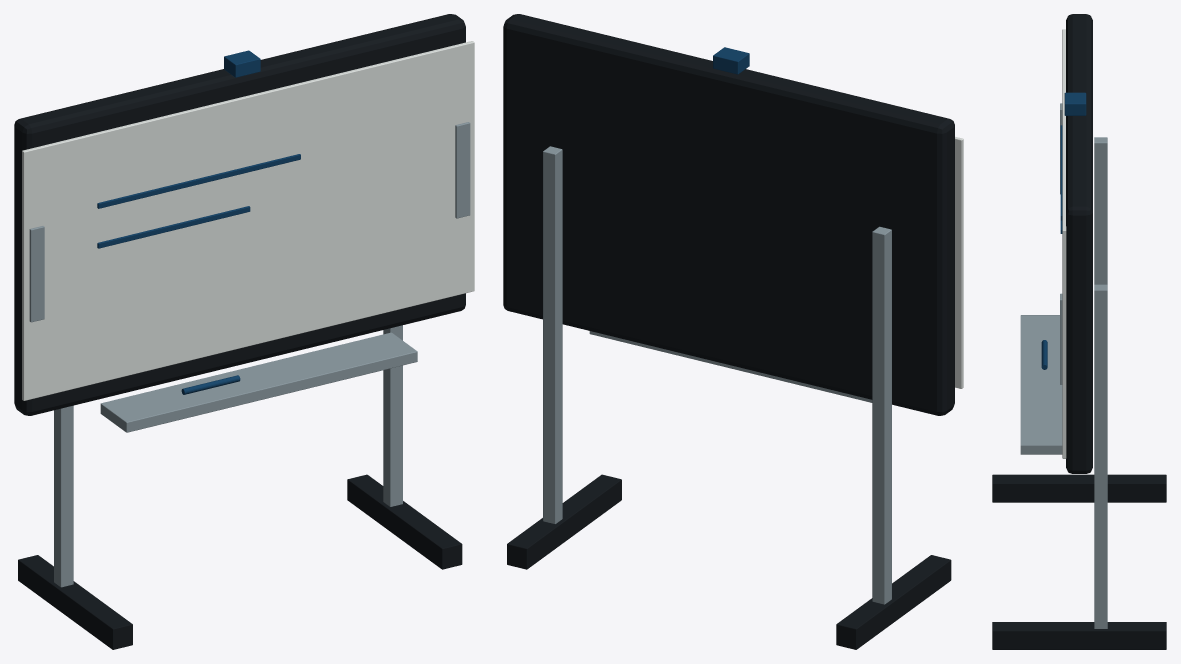
File: edited.glb
3 renders of one model, left to right at view 1: azimuth 30°, elevation 25°; view 2: azimuth 150°, elevation 25°; view 3: azimuth 270°, elevation 25°, orthographic. The views are drawn at different scales.
Visible parts, largest first — view 1: BOARD_Surface, BOARD_Frame, PEN_Tray, FRAME_Foot.001, FRAME_Foot, FRAME_Upright, FRAME_Upright.001, SPEAKER, SPEAKER.001, LESSON_Line1, LESSON_Line2, CAMERA; view 2: BOARD_Frame, FRAME_Upright, FRAME_Upright.001, FRAME_Foot, FRAME_Foot.001, BOARD_Surface, PEN_Tray, CAMERA; view 3: BOARD_Frame, PEN_Tray, FRAME_Upright.001, FRAME_Foot.001, FRAME_Foot, FRAME_Upright, BOARD_Surface, CAMERA, LESSON_Line1, SPEAKER.001.
Part boxes in pixels (<box>): BOARD_Surface: <box>22,41,474,400</box>; BOARD_Frame: <box>14,14,465,415</box>; PEN_Tray: <box>100,332,417,432</box>; FRAME_Foot.001: <box>347,474,462,569</box>; FRAME_Foot: <box>18,555,132,649</box>; FRAME_Upright: <box>54,405,73,587</box>; FRAME_Upright.001: <box>383,325,402,506</box>; SPEAKER: <box>29,226,44,322</box>; SPEAKER.001: <box>455,122,470,218</box>; LESSON_Line1: <box>97,154,300,208</box>; LESSON_Line2: <box>97,206,250,248</box>; CAMERA: <box>224,50,260,77</box>; BOARD_Frame: <box>503,14,954,415</box>; FRAME_Upright: <box>872,226,891,604</box>; FRAME_Upright.001: <box>543,146,562,523</box>; FRAME_Foot: <box>836,555,951,649</box>; FRAME_Foot.001: <box>507,474,621,569</box>; BOARD_Surface: <box>955,136,963,388</box>; PEN_Tray: <box>589,331,872,402</box>; CAMERA: <box>713,47,749,74</box>; BOARD_Frame: <box>1066,14,1092,473</box>; PEN_Tray: <box>1020,315,1062,454</box>; FRAME_Upright.001: <box>1094,284,1107,628</box>; FRAME_Foot.001: <box>992,622,1166,649</box>; FRAME_Foot: <box>992,474,1166,502</box>; FRAME_Upright: <box>1094,137,1107,284</box>; BOARD_Surface: <box>1062,29,1066,458</box>; CAMERA: <box>1064,92,1086,115</box>; LESSON_Line1: <box>1060,125,1062,220</box>; SPEAKER.001: <box>1060,293,1062,384</box>.
Bounding box in the file's own units: 1.78 × 1.95 × 0.65.
